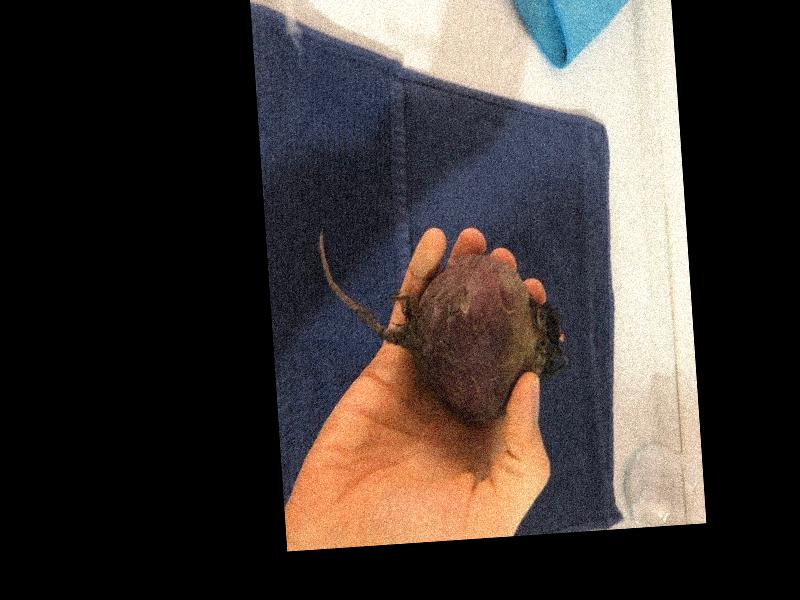Beet: (317, 212, 570, 435)
